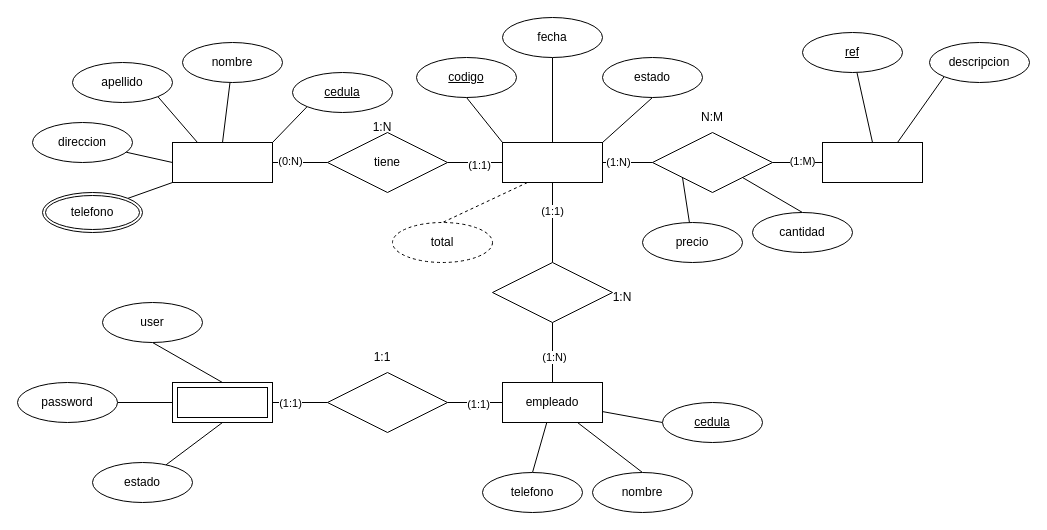
The diagram is 1047 pixels wide and 530 high, and some of its shapes have lost their labels. Here are the shapes that lost their labels. From the top down, the centre of each, then its label:
At (x=222, y=162): "cliente".
At (x=552, y=162): "factura".
At (x=712, y=162): "detalle".
At (x=872, y=162): "producto".
At (x=552, y=292): "emitio".
At (x=222, y=402): "usuario".
At (x=387, y=402): "es un".
